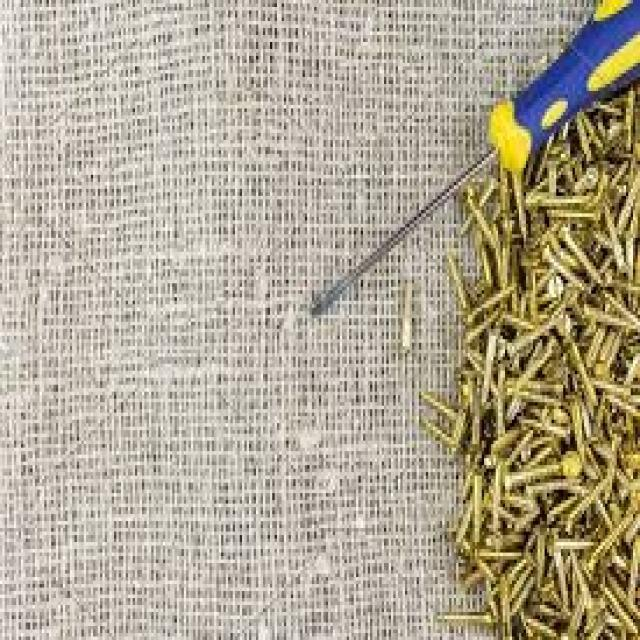screwdriver: (309, 0, 640, 325)
